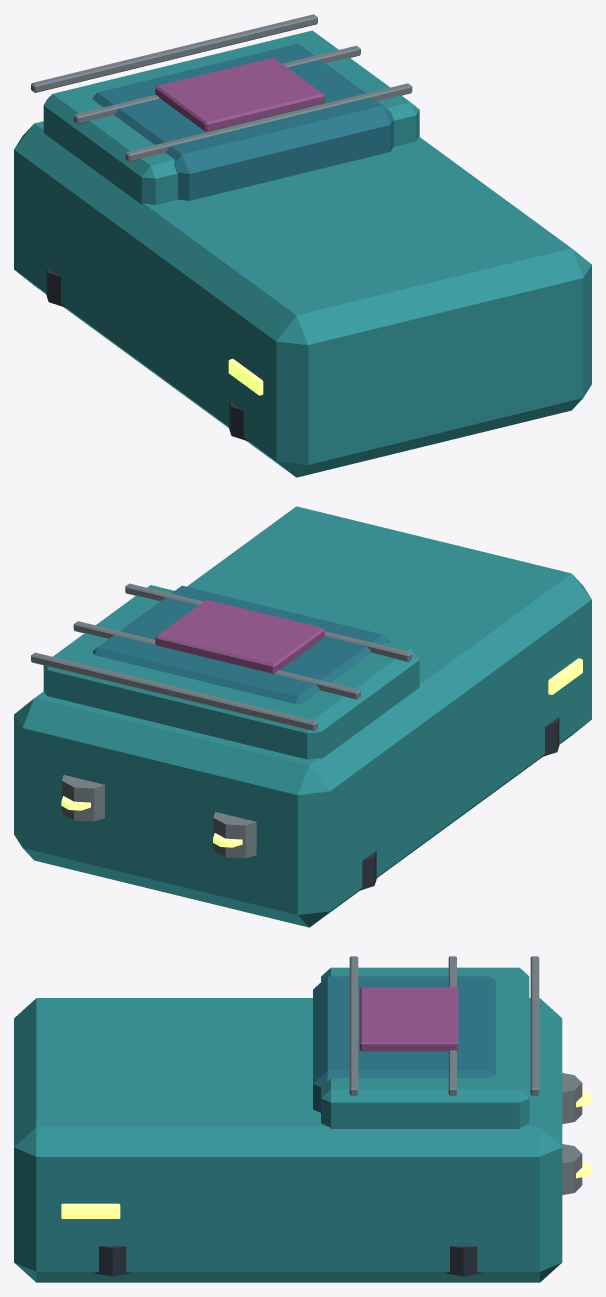
The model's file is vehicles_031_seed11.glb.
3 renders of one model, top to bottom at view 1: azimuth 30°, elevation 25°; view 2: azimuth 150°, elevation 25°; view 3: azimuth 270°, elevation 25°, orthographic. The views are drawn at different scales.
Parts seen in each view (by area): view 1: vehicles_031_seed11; view 2: vehicles_031_seed11; view 3: vehicles_031_seed11.
Part boxes in pixels (box(x1,y1,x2,y2)): vehicles_031_seed11: box(14, 14, 591, 477); vehicles_031_seed11: box(14, 506, 591, 927); vehicles_031_seed11: box(14, 956, 591, 1282).
Size of the model in its own units: 2.58 by 1.6 by 4.12.
